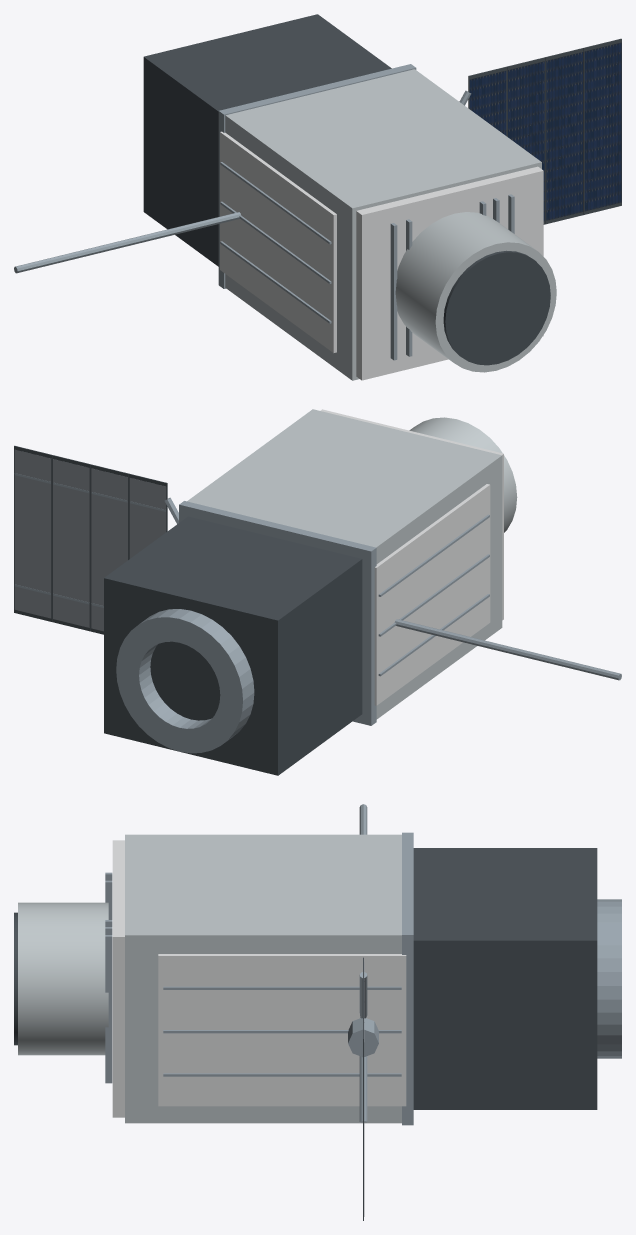
Rendered from ref-a-500-49817.glb.
The picture shows the model from 3 angles, top to bottom: view 1: azimuth 30°, elevation 25°; view 2: azimuth 150°, elevation 25°; view 3: azimuth 270°, elevation 25°; orthographic projection. The views are drawn at different scales.
Visible parts, largest first — view 1: Payload module, Service module, Solar cell panel (×4), Radiator face, Earth-facing deck, Optical instrument housing, Telescope aperture, Solar panel frame (×3), Module interface, Outboard boom, Deck heat pipe, Radiator seam (×2); view 2: Service module, Payload module, Rear array substrate (×4), Radiator face, Launch adapter ring, Module interface, Optical instrument housing, Solar panel frame (×3), Outboard boom, Earth-facing deck, Radiator seam; view 3: Service module, Payload module, Radiator face, Optical instrument housing, Launch adapter ring, Earth-facing deck, Module interface, Radiator seam (×3), Deck heat pipe, Array drive.
Part boxes in pixels (bbox=[...]): Payload module: bbox=[225, 69, 541, 380]; Service module: bbox=[143, 14, 391, 266]; Solar cell panel (×4): bbox=[469, 42, 621, 221]; Radiator face: bbox=[220, 131, 336, 352]; Earth-facing deck: bbox=[356, 166, 543, 380]; Optical instrument housing: bbox=[395, 212, 556, 372]; Telescope aperture: bbox=[443, 250, 550, 365]; Solar panel frame (×3): bbox=[507, 38, 621, 224]; Module interface: bbox=[218, 64, 416, 288]; Outboard boom: bbox=[14, 212, 241, 273]; Deck heat pipe: bbox=[390, 223, 397, 360]; Radiator seam (×2): bbox=[220, 162, 331, 323]; Service module: bbox=[104, 516, 362, 775]; Payload module: bbox=[187, 409, 502, 719]; Rear array substrate (×4): bbox=[14, 449, 166, 631]; Radiator face: bbox=[374, 484, 490, 705]; Launch adapter ring: bbox=[116, 609, 254, 753]; Module interface: bbox=[179, 501, 376, 725]; Optical instrument housing: bbox=[409, 417, 517, 532]; Solar panel frame (×3): bbox=[14, 445, 128, 634]; Outboard boom: bbox=[394, 619, 621, 680]; Earth-facing deck: bbox=[320, 409, 503, 620]; Radiator seam: bbox=[378, 514, 489, 596]; Service module: bbox=[413, 848, 597, 1109]; Payload module: bbox=[125, 834, 401, 1123]; Radiator face: bbox=[158, 954, 406, 1106]; Optical instrument housing: bbox=[18, 902, 108, 1055]; Launch adapter ring: bbox=[597, 899, 621, 1058]; Earth-facing deck: bbox=[112, 840, 124, 1117]; Module interface: bbox=[402, 832, 413, 1125]; Radiator seam (×3): bbox=[163, 986, 401, 1076]; Deck heat pipe: bbox=[105, 935, 112, 1083]; Array drive: bbox=[348, 1018, 378, 1056].
Bounding box in the file's own units: 3.2 × 0.8804 × 2.55.
6 materials, 1 textured.
